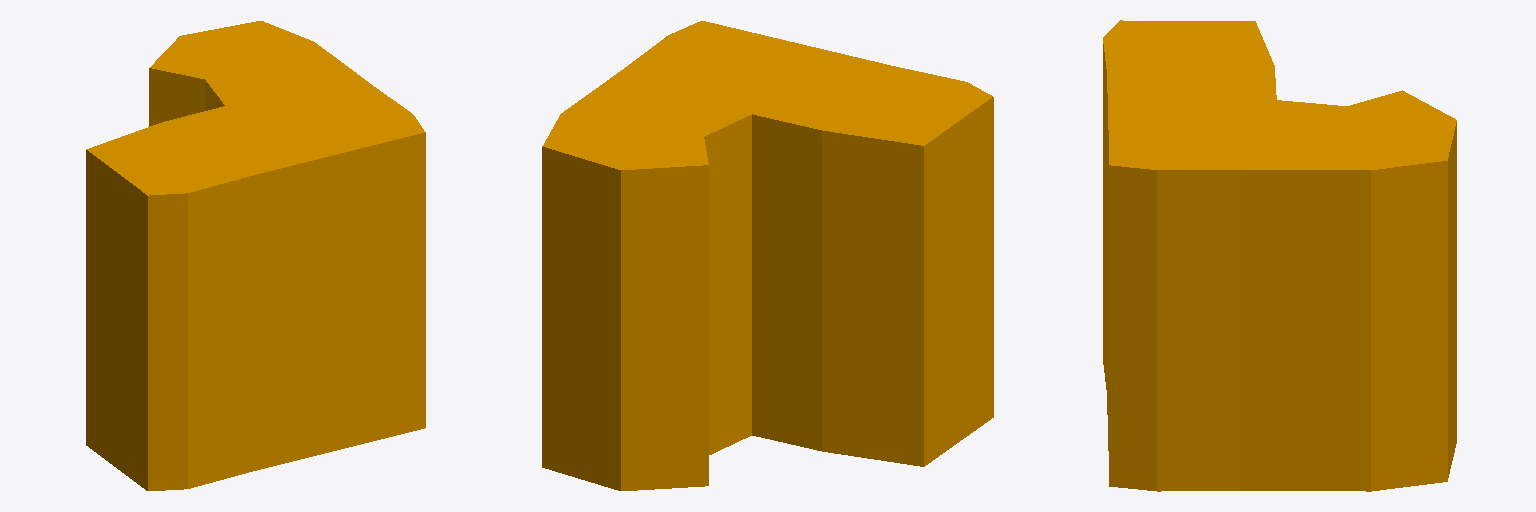
The robot description file, URDF, robot "object":
<?xml version="1.0"?>
<robot name="object">
  <link name="object">
    <visual>
      <origin xyz="0 0 0"/>
      <geometry>
        <mesh filename="meshes/polygon/poly_79_s.obj" scale=".03 .03 .03"/>
      </geometry>
    </visual>
    <collision>
  <origin xyz="0 0 0"/>
  <geometry>
    <mesh filename="meshes/polygon/poly_79_s_0decompose.obj" scale=".03 .03 .03"/>
<!--          <mesh filename="meshes/custom/obj0_ball.obj" scale=".05 .05 .05"/>-->
  </geometry>
</collision><collision>
  <origin xyz="0 0 0"/>
  <geometry>
    <mesh filename="meshes/polygon/poly_79_s_1decompose.obj" scale=".03 .03 .03"/>
<!--          <mesh filename="meshes/custom/obj0_ball.obj" scale=".05 .05 .05"/>-->
  </geometry>
</collision>

<!--    <collision>-->
<!--      <origin xyz="0 0 0"/>-->
<!--      <geometry>-->
<!--        <mesh filename="meshes/polygon/poly_79_s.obj" scale=".03 .03 .03"/>-->
<!--&lt;!&ndash;          <mesh filename="meshes/custom/obj0_ball.obj" scale=".05 .05 .05"/>&ndash;&gt;-->
<!--      </geometry>-->
<!--    </collision>-->
    <inertial>
      <density value="1000.0"/>
    </inertial>
  </link>
</robot>

--- What the picture shows (computed from the rendered views, not written in the file) ---
The picture shows the robot from 3 angles, left to right: view 1: azimuth 30°, elevation 25°; view 2: azimuth 150°, elevation 25°; view 3: azimuth 270°, elevation 25°; orthographic projection.
Model object with 1 links and 0 joints (none), rooted at object, posed all joints at 0.
Visible links, largest first — view 1: object; view 2: object; view 3: object.
Boxes of the visible links, bbox=[...] form: object: bbox=[86, 21, 425, 490]; object: bbox=[542, 21, 993, 490]; object: bbox=[1103, 20, 1456, 491].
Size in the robot's own frame: 0.06 by 0.06 by 0.06 metres.
Meshes: 1 distinct files referenced, 1 mesh visuals loaded (1 OBJ).
